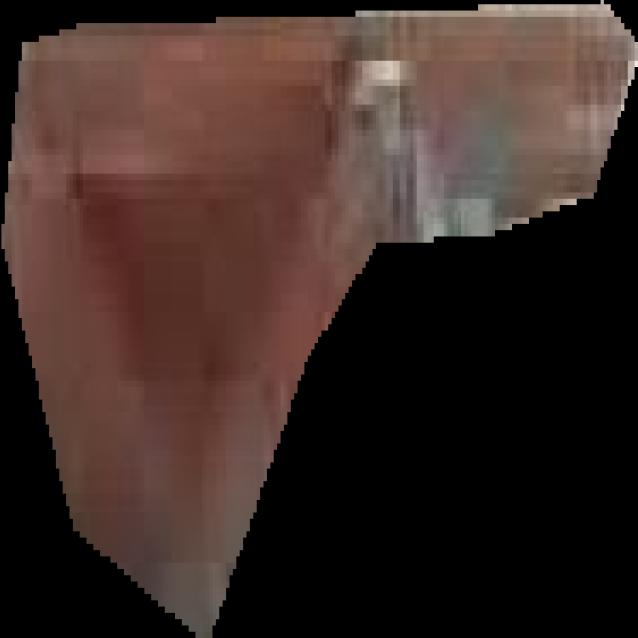Uniform Corrosion: (0, 1, 638, 638)
